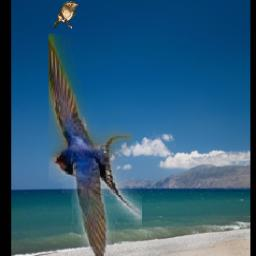Sparrow: (53, 1, 79, 28)
Swallow: (49, 35, 142, 256)
